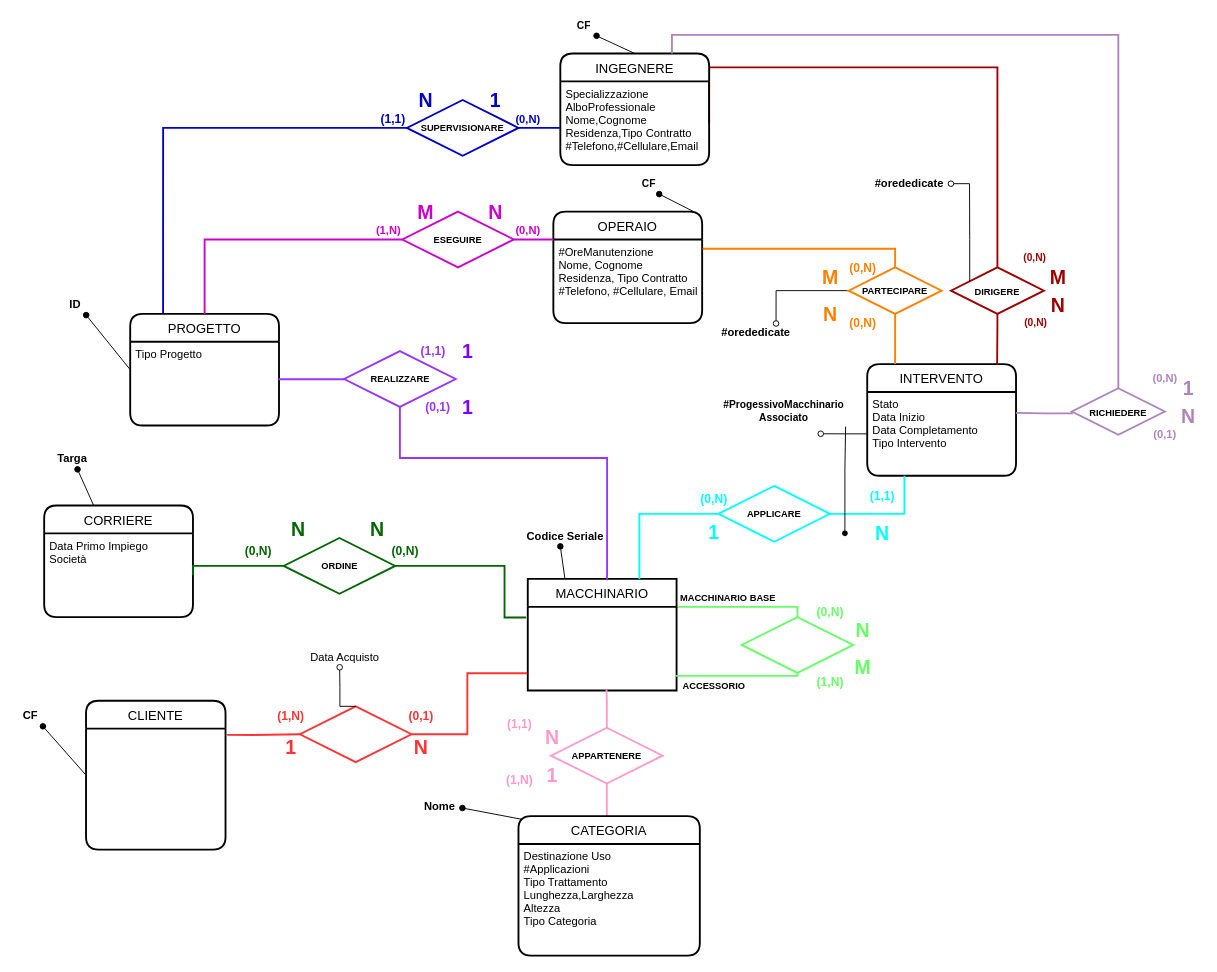
The diagram is 1217 pixels wide and 972 high, and some of its shapes have lost their labels. Each missing label, with the centre of its shape:
ACQUISTO: (x=355, y=734)
ASSOCIARE: (x=797, y=644)
Nome Cognome residenza #acquisti #Telefono #Cellulare Email: (x=155, y=774)
Prezzo #lotto descrizione: (x=601, y=634)
